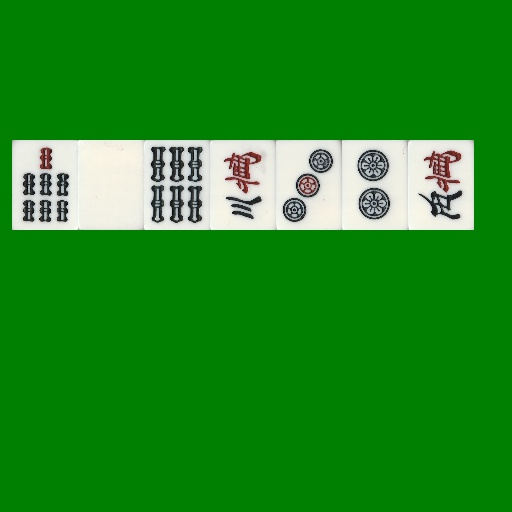2p: (342, 140, 408, 230)
3m: (210, 140, 276, 230)
3p: (276, 140, 342, 230)
5m: (408, 140, 474, 230)
6s: (144, 140, 210, 230)
7s: (12, 140, 78, 230)
white: (78, 140, 144, 230)
